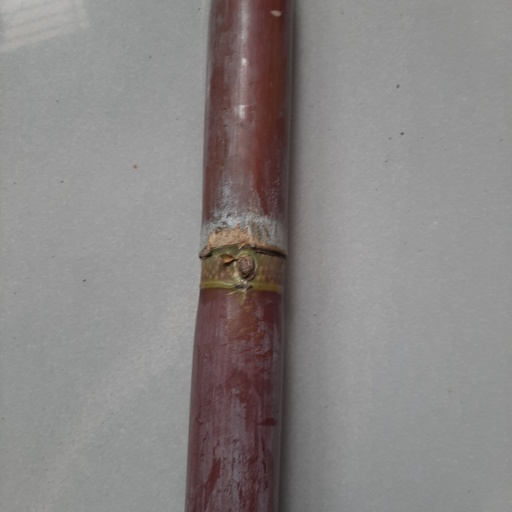Bud: (236, 254, 256, 280)
